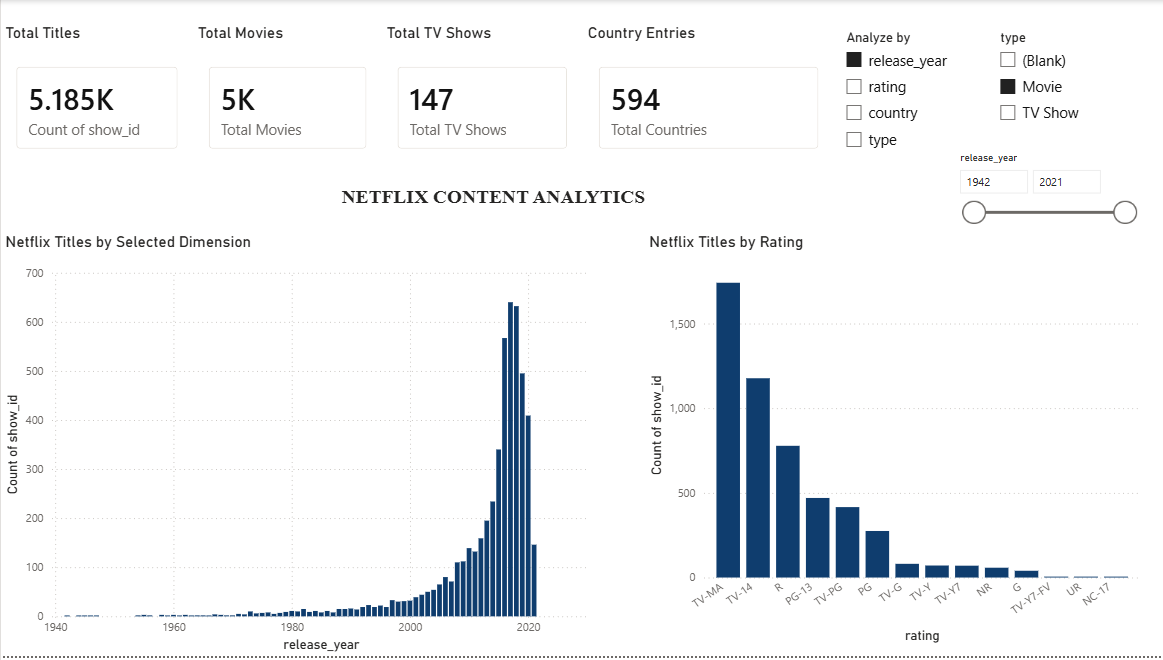

The dashboard page shown, as its layout file describes it:
{"tool":"powerbi","page":{"name":"Page 1","canvas":[1280,720],"ordinal":0},"visuals":[{"type":"slicer","fields":{"Values":["netflix_titles (3).type"]},"box":[1084.1,27.4,149.6,134.5],"z":0},{"type":"slicer","fields":{"Values":["Analyze by .Analyze by "]},"box":[915.3,27.4,157.8,153.7],"z":1000},{"type":"clusteredColumnChart","title":"Netflix Titles by Selected Dimension","fields":{"Category":["netflix_titles (3).release_year"],"Y":["CountNonNull(netflix_titles (3).show_id)"]},"box":[0,255.2,662.8,465.2],"z":2000},{"type":"cardVisual","title":"Total Titles ","fields":{"Data":["Count(netflix_titles (3).show_id)"]},"box":[0,26.1,211.3,155.1],"z":3000},{"type":"cardVisual","title":"Total Movies","fields":{"Data":["Analyze by .Total Movies"]},"box":[211.3,26.1,207.2,155.1],"z":4000},{"type":"cardVisual","title":"Total TV Shows","fields":{"Data":["Analyze by .Total TV Shows"]},"box":[418.5,26.1,220.9,155.1],"z":5000},{"type":"cardVisual","title":"Country Entries ","fields":{"Data":["Analyze by .Total Countries"]},"box":[639.5,26.1,275.8,155.1],"z":6000},{"type":"clusteredColumnChart","title":"Netflix Titles by Rating","fields":{"Category":["netflix_titles (3).rating"],"Y":["Count(netflix_titles (3).show_id)"]},"box":[706.7,255.2,548.9,455.6],"z":7000},{"type":"textbox","box":[100.2,199,881,41.2],"z":7001},{"type":"slicer","fields":{"Values":["netflix_titles (3).release_year"]},"box":[1040.1,161.9,215.4,98.8],"z":7002}]}

Visuals, with their boxes in screenshot pixels (x1, y1, x2, y2), scaled from the page's 1280x720 canvas onto the 1163x660 screenshot:
slicer - netflix_titles (3).type: {"x1": 985, "y1": 25, "x2": 1121, "y2": 148}
slicer - Analyze by .Analyze by : {"x1": 832, "y1": 25, "x2": 975, "y2": 166}
"Netflix Titles by Selected Dimension" clusteredColumnChart: {"x1": 0, "y1": 234, "x2": 602, "y2": 659}
"Total Titles " cardVisual: {"x1": 0, "y1": 24, "x2": 192, "y2": 166}
"Total Movies" cardVisual: {"x1": 192, "y1": 24, "x2": 380, "y2": 166}
"Total TV Shows" cardVisual: {"x1": 380, "y1": 24, "x2": 581, "y2": 166}
"Country Entries " cardVisual: {"x1": 581, "y1": 24, "x2": 832, "y2": 166}
"Netflix Titles by Rating" clusteredColumnChart: {"x1": 642, "y1": 234, "x2": 1141, "y2": 652}
textbox: {"x1": 91, "y1": 182, "x2": 892, "y2": 220}
slicer - netflix_titles (3).release_year: {"x1": 945, "y1": 148, "x2": 1141, "y2": 239}
